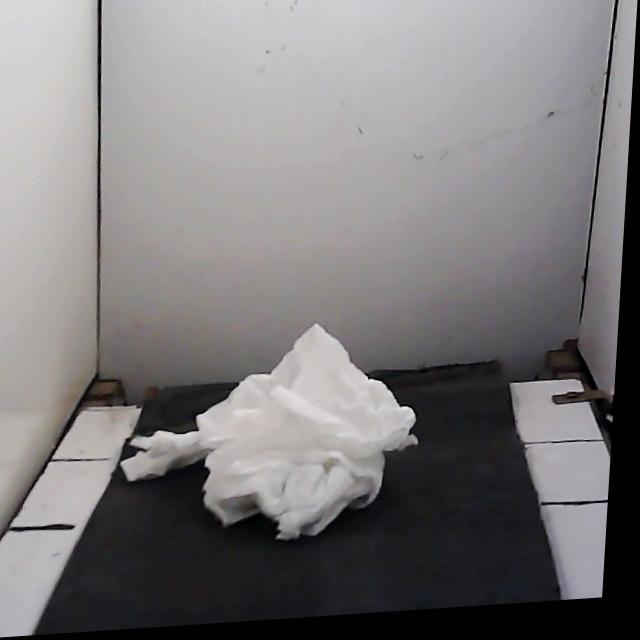papel: (121, 324, 417, 539)
